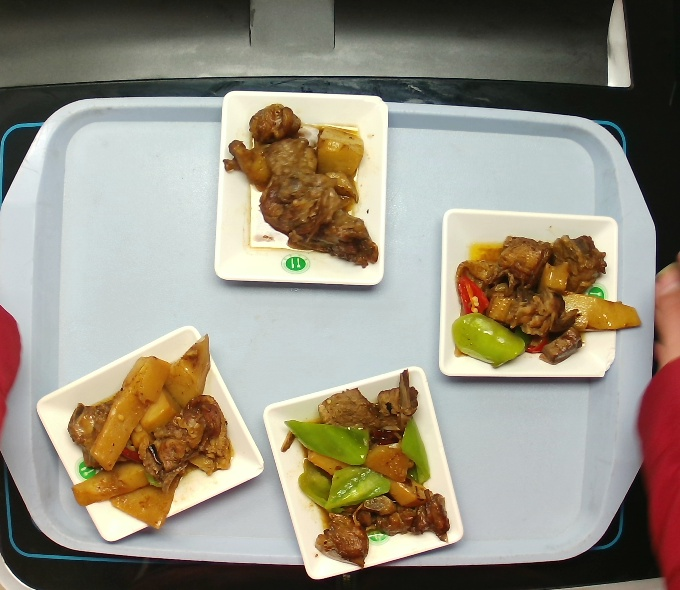wcq-YaRouSunKuai: (64, 330, 235, 539), (271, 376, 457, 566), (215, 108, 392, 264), (445, 224, 624, 362)
